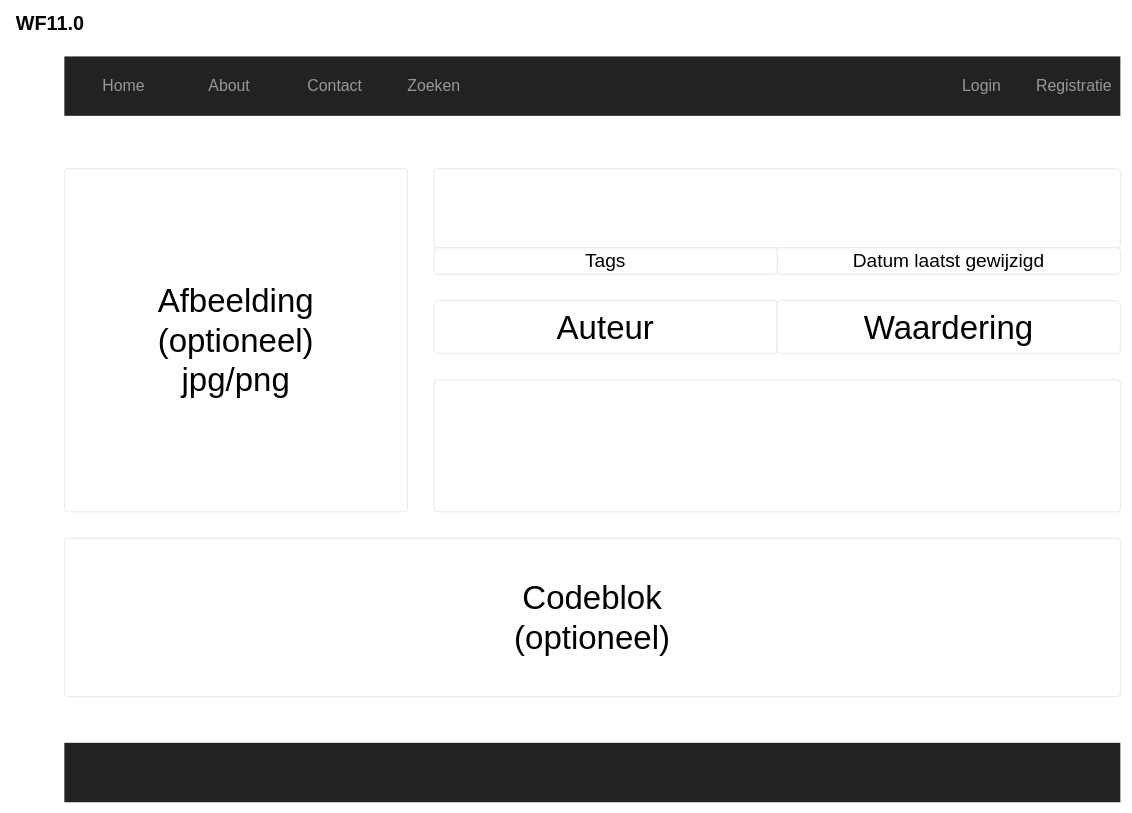
This 1132x813 diagram has some shape labels left out. Here are the shapes that lost their labels. From the top down, the centre of each, then its label:
At point 776,208: "Titel".
At point 776,445: "Uitleg".
At point 592,772: "Footer tekst".
